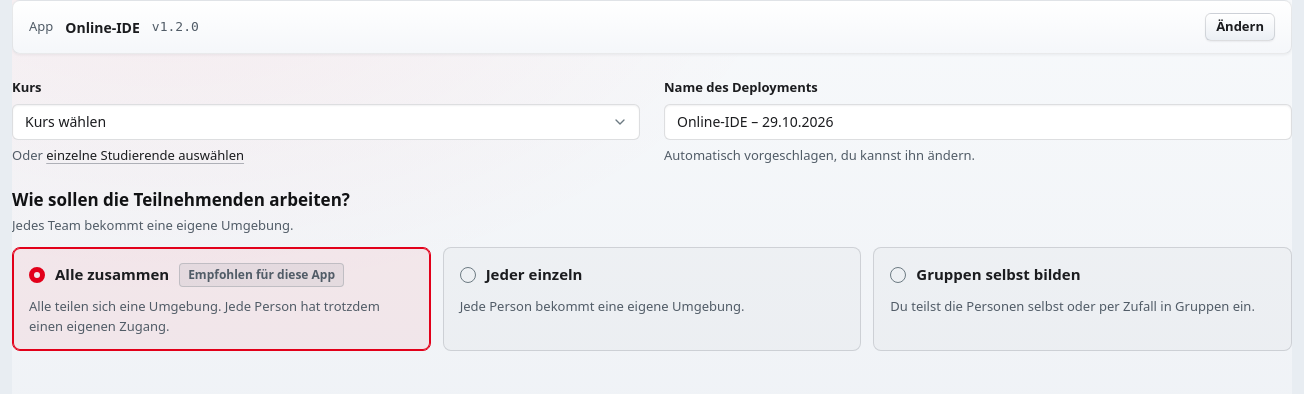
Test: StepTarget › meldet einen Kurs ohne Mitglieder als Fehler mit Text
The image size is (1304, 394).
Select "Leer" in the dropdown with test id "course-select". click: point(326, 122)
box: [12,104,640,140]
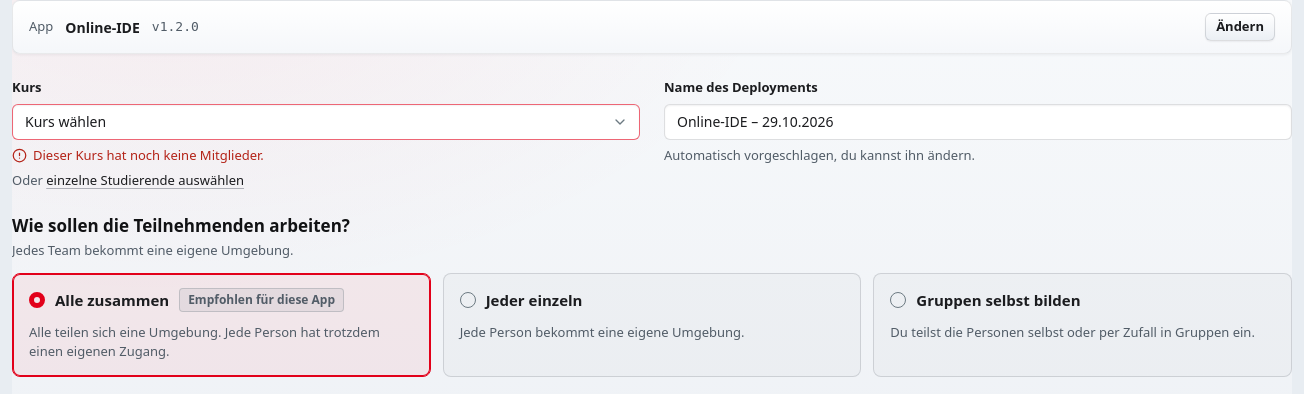
Check: the message "Dieser Kurs hat noch keine Mitglieder." is shown, box [12,146,264,164]
